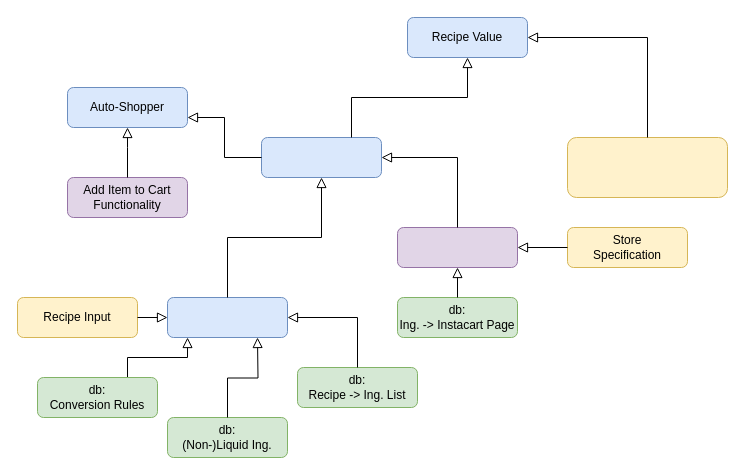
This 745x475 diagram has some shape labels left out. The shapes that lost their labels are listed below. From the top down, each one's centre as x and y in pixels, then its label:
(x=321, y=157): Selenium: Ing. List -> Price
(x=647, y=167): db: Recipe Info (cook time, subj. rating)
(x=457, y=247): Error Handling (eg out of stock)
(x=227, y=317): Grocery List Maker
